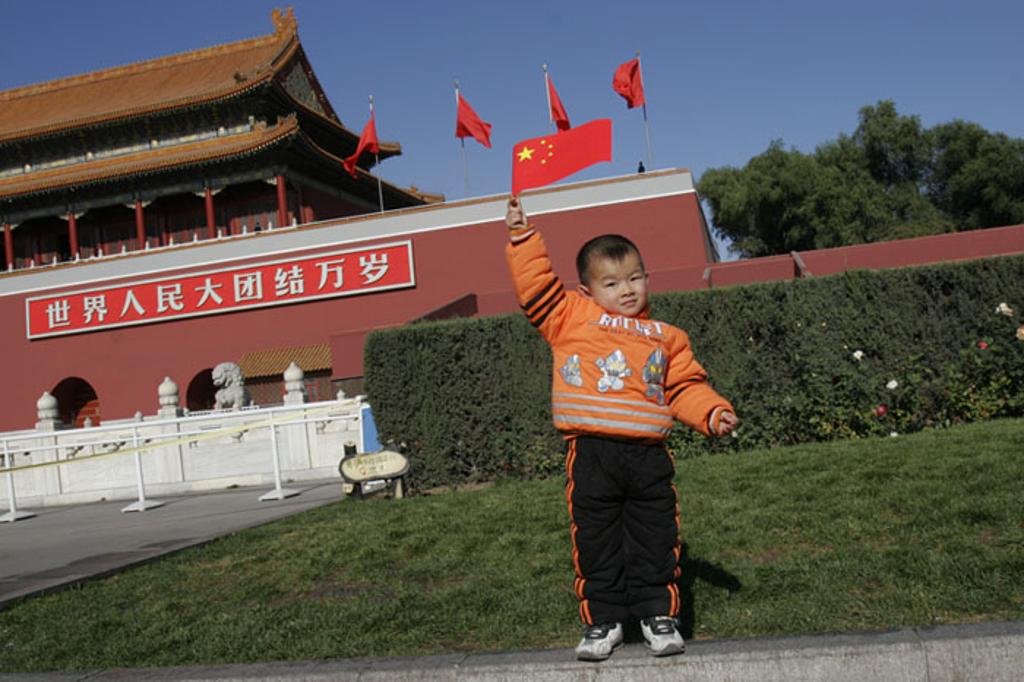face: (592, 250, 646, 314)
